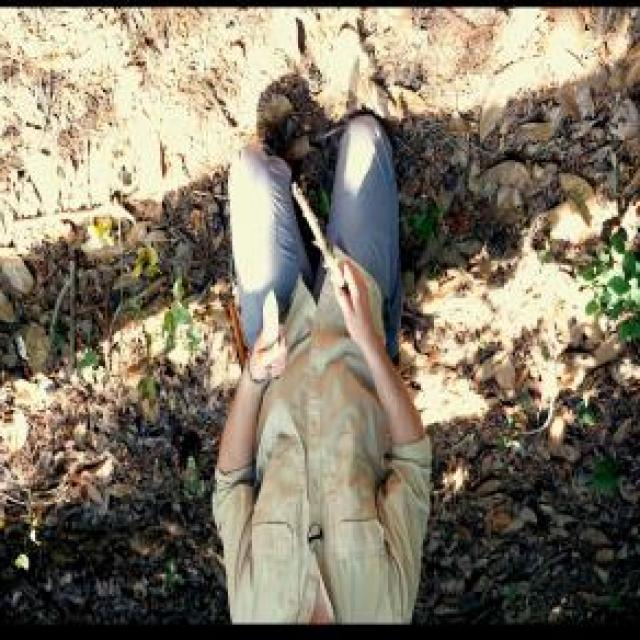knife: (252, 275, 289, 388)
